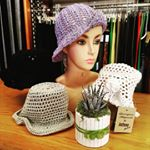other: (72, 98, 112, 150)
